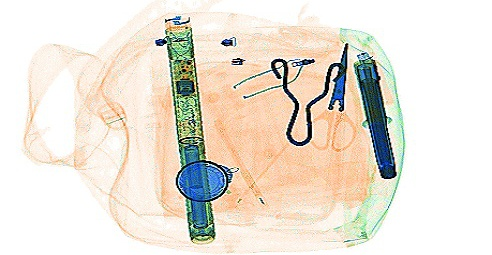lighter: (355, 50, 394, 107)
scissors: (305, 42, 358, 152)
slingshot: (269, 56, 345, 146)
